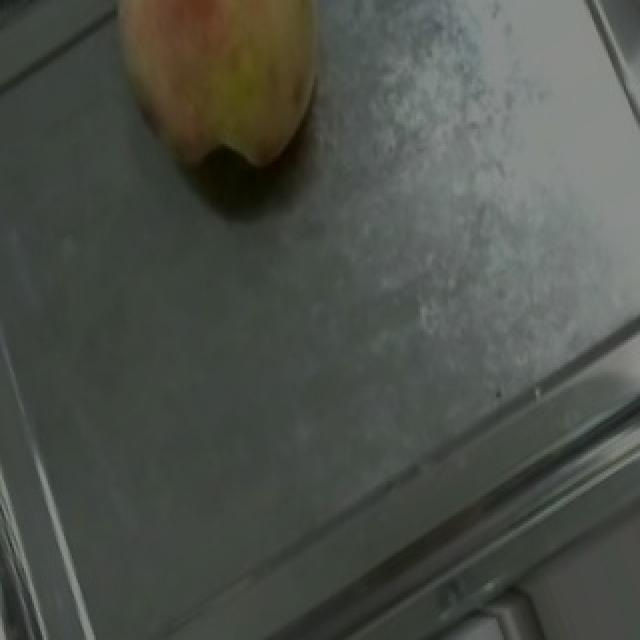Fruit: (72, 0, 364, 193)
